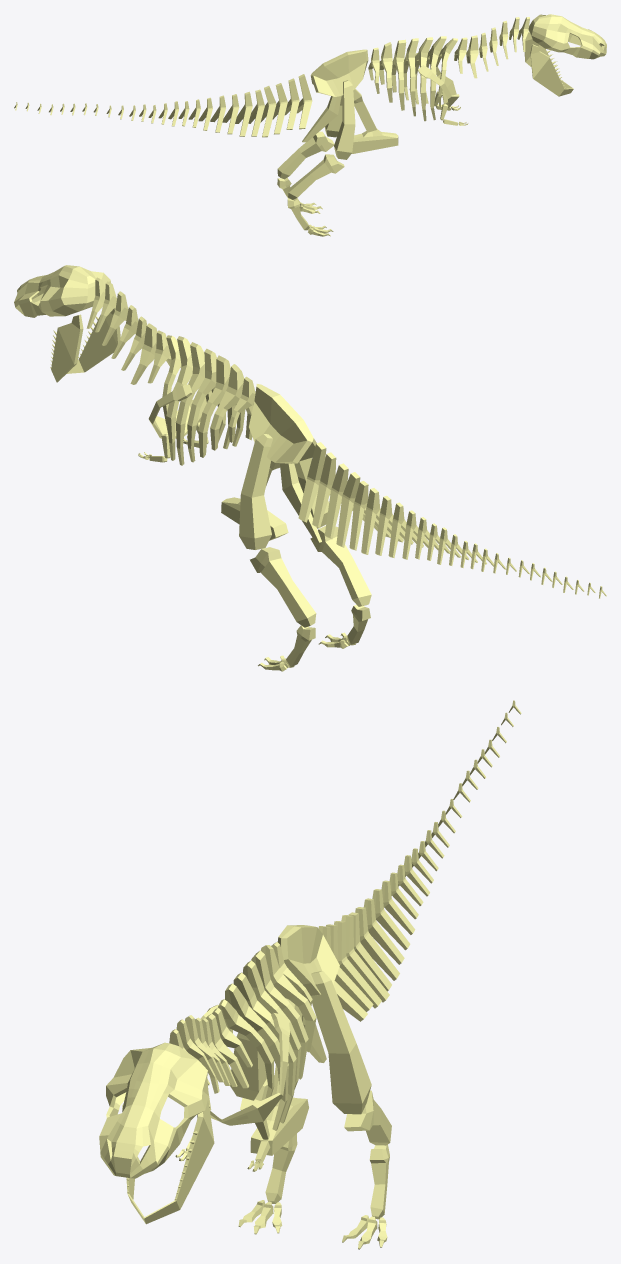
Rendered from Dino_BigTrex.fbx.
The picture shows the model from 3 angles, top to bottom: view 1: azimuth 30°, elevation 25°; view 2: azimuth 150°, elevation 25°; view 3: azimuth 270°, elevation 25°; orthographic projection. The views are drawn at different scales.
Visible parts, largest first — view 1: backbone.001, Cube, tibula, femur, Cube.045, Cube.010, Cube.009, Cube.011, chestplate, Cube.012, Cube.008, Cube.027 (+10 smaller); view 2: backbone.001, tibula, Cube, femur, Cube.045, Cube.010, Cube.011, Cube.009, Cube.012, sole, Cube.008, Cube.027 (+12 smaller); view 3: Cube, femur, backbone.001, Cube.045, sole, chestplate, tibula, Cube.012, Cube.008, Cube.009, Cube.011, Cube.013 (+9 smaller).
Part boxes in pixels (x1,y1,x2,y2): backbone.001: [302, 49, 398, 153]; Cube: [528, 14, 606, 59]; tibula: [277, 131, 344, 199]; femur: [324, 80, 355, 159]; Cube.045: [524, 32, 573, 96]; Cube.010: [403, 38, 418, 116]; Cube.009: [391, 39, 406, 110]; Cube.011: [415, 37, 433, 121]; chestplate: [415, 53, 459, 107]; Cube.012: [426, 36, 446, 120]; Cube.008: [379, 42, 392, 102]; Cube.027: [297, 74, 312, 129]; backbone.001: [221, 384, 321, 542]; tibula: [250, 526, 371, 627]; Cube: [14, 265, 110, 317]; femur: [239, 434, 328, 549]; Cube.045: [51, 308, 120, 382]; Cube.010: [187, 348, 245, 462]; Cube.011: [175, 342, 235, 465]; Cube.009: [198, 355, 253, 457]; Cube.012: [166, 336, 225, 460]; sole: [286, 605, 370, 667]; Cube.008: [210, 364, 244, 450]; Cube.027: [298, 442, 341, 522]; Cube: [99, 1042, 208, 1178]; femur: [229, 971, 371, 1114]; backbone.001: [250, 925, 339, 1155]; Cube.045: [122, 1098, 214, 1224]; sole: [265, 1134, 389, 1219]; chestplate: [200, 1005, 289, 1125]; tibula: [240, 1079, 391, 1145]; Cube.012: [224, 983, 288, 1130]; Cube.008: [228, 945, 316, 1052]; Cube.009: [251, 950, 308, 1079]; Cube.011: [208, 972, 296, 1123]; Cube.013: [197, 999, 274, 1098].
Bounding box in the file's own units: 26.34 × 9.55 × 9.72.
